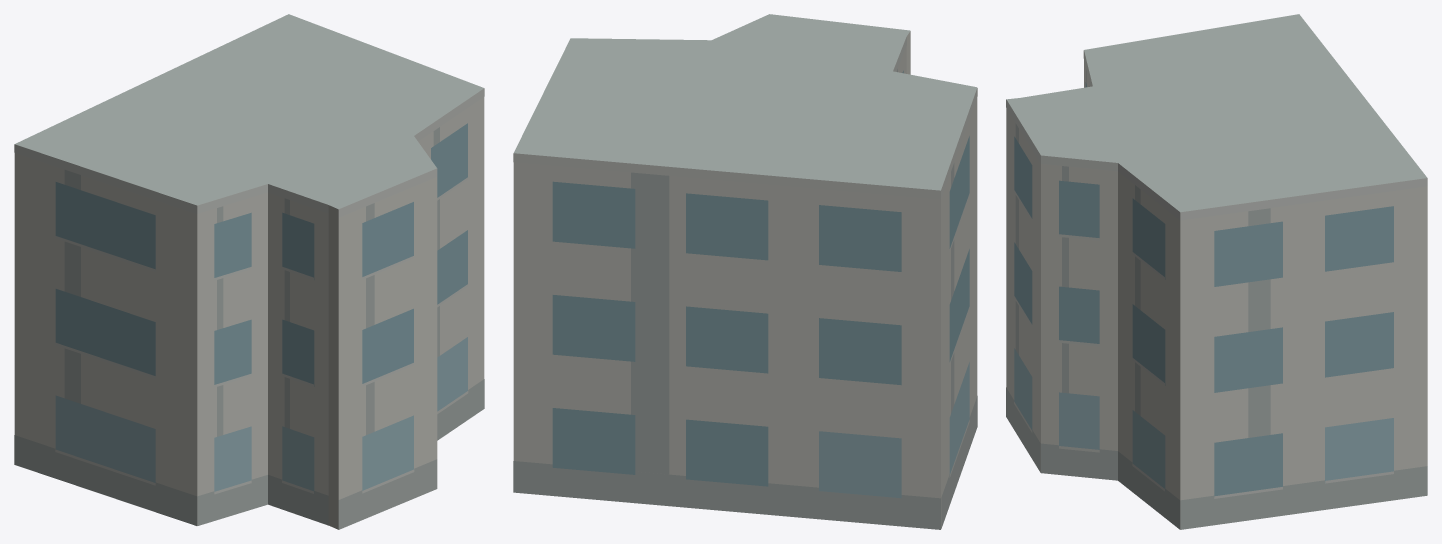
File: residential-f9418b7c-0262-4da7-a668-79bde433e57c.glb
3 views of the same model, side by side, from view 1: azimuth 30°, elevation 25°; view 2: azimuth 150°, elevation 25°; view 3: azimuth 270°, elevation 25° (orthographic). The views are drawn at different scales.
Visible parts, largest first — view 1: residential-f9418b7c-0262-4da7-a668-79bde433e57c.tmp; view 2: residential-f9418b7c-0262-4da7-a668-79bde433e57c.tmp; view 3: residential-f9418b7c-0262-4da7-a668-79bde433e57c.tmp.
Boxes of the visible parts, x1,y1,x2,y2 form: residential-f9418b7c-0262-4da7-a668-79bde433e57c.tmp: (14,14,484,529); residential-f9418b7c-0262-4da7-a668-79bde433e57c.tmp: (513,14,977,529); residential-f9418b7c-0262-4da7-a668-79bde433e57c.tmp: (1006,14,1427,529).
Bounding box in the file's own units: 12.26 × 9.15 × 11.01.
